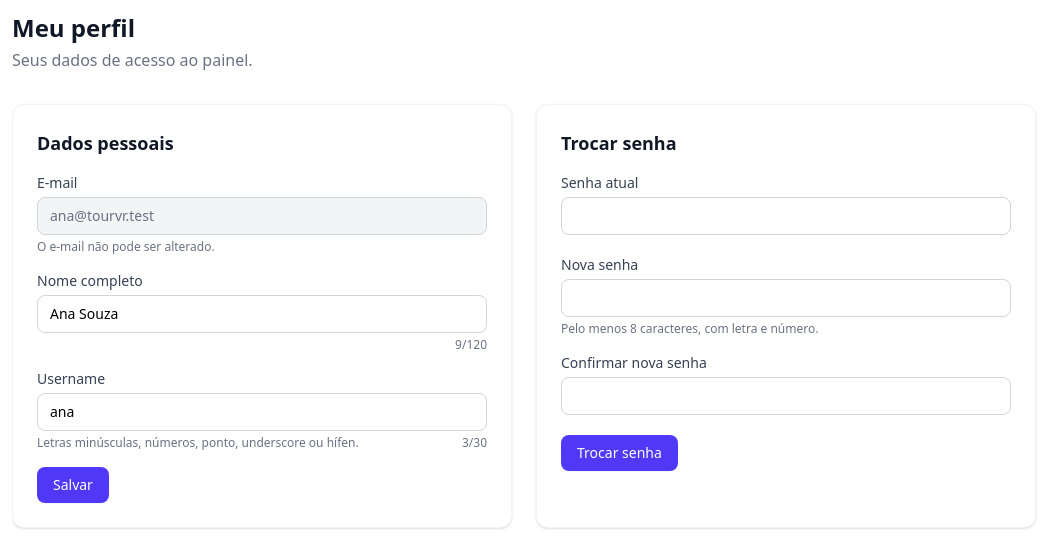
Test: ProfilePage › 400 do backend aparece no campo senha atual
The image size is (1053, 546).
Type "errada123" into the password field labelled "Senha atual" at (786, 216), box [561,197,1011,235]
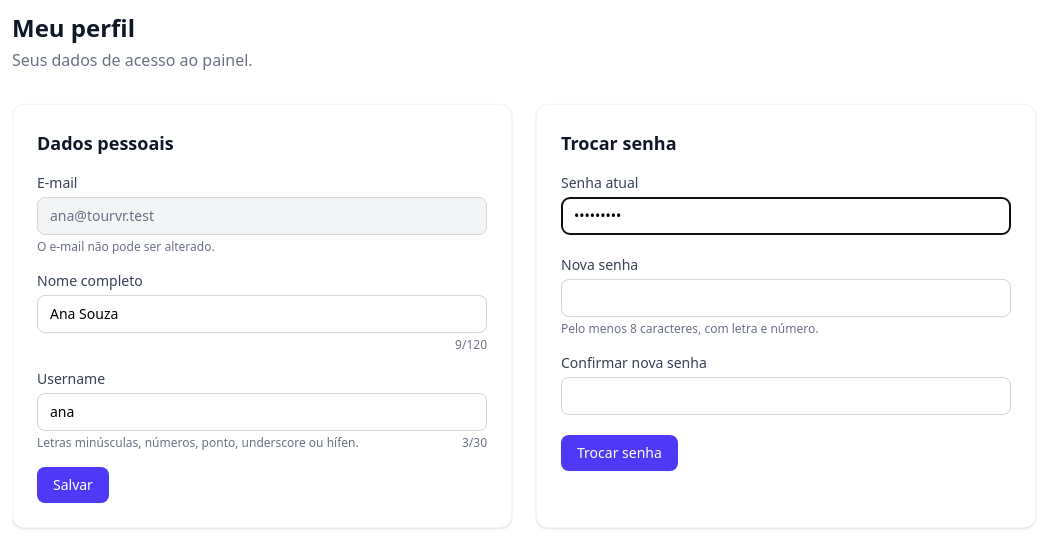
Type "nova12345" into the password field labelled "Nova senha" at (786, 298), box [561,279,1011,317]
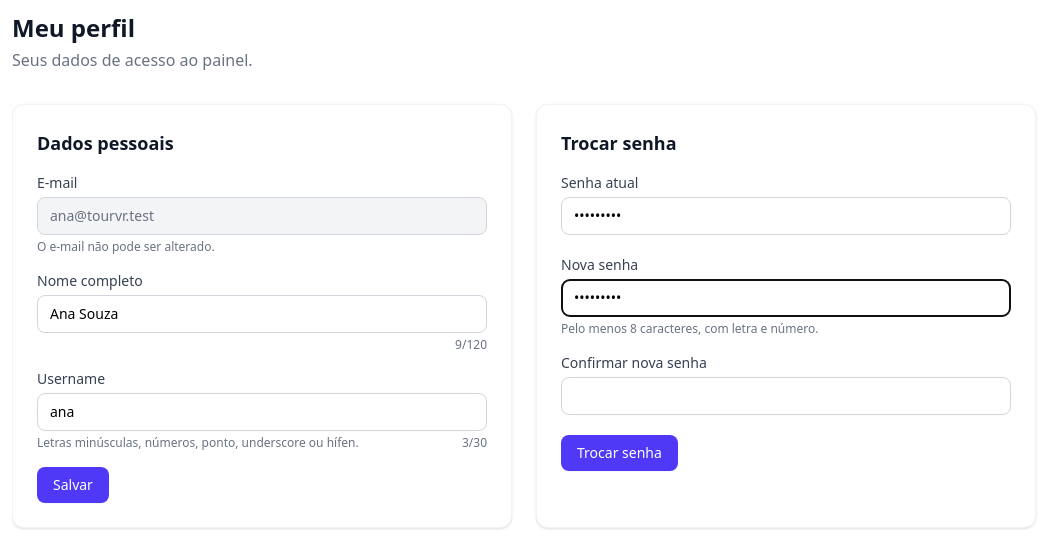
Type "nova12345" into the password field labelled "Confirmar nova senha" at (786, 396), box [561,377,1011,415]
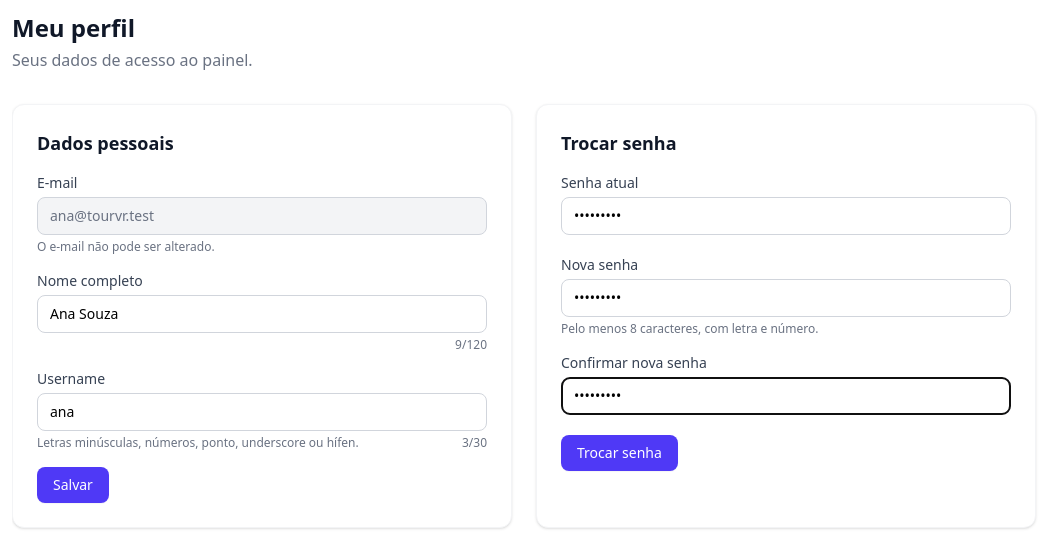
Click the button "Trocar senha" at (619, 453), box [561,435,678,471]
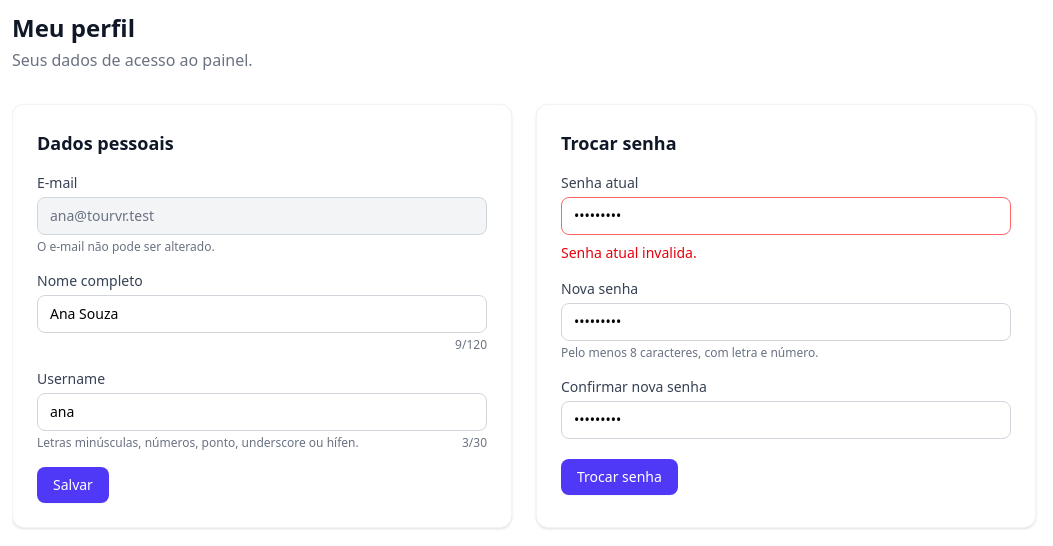
expect the text "Senha atual invalida." is shown: met, box [561,243,697,262]
